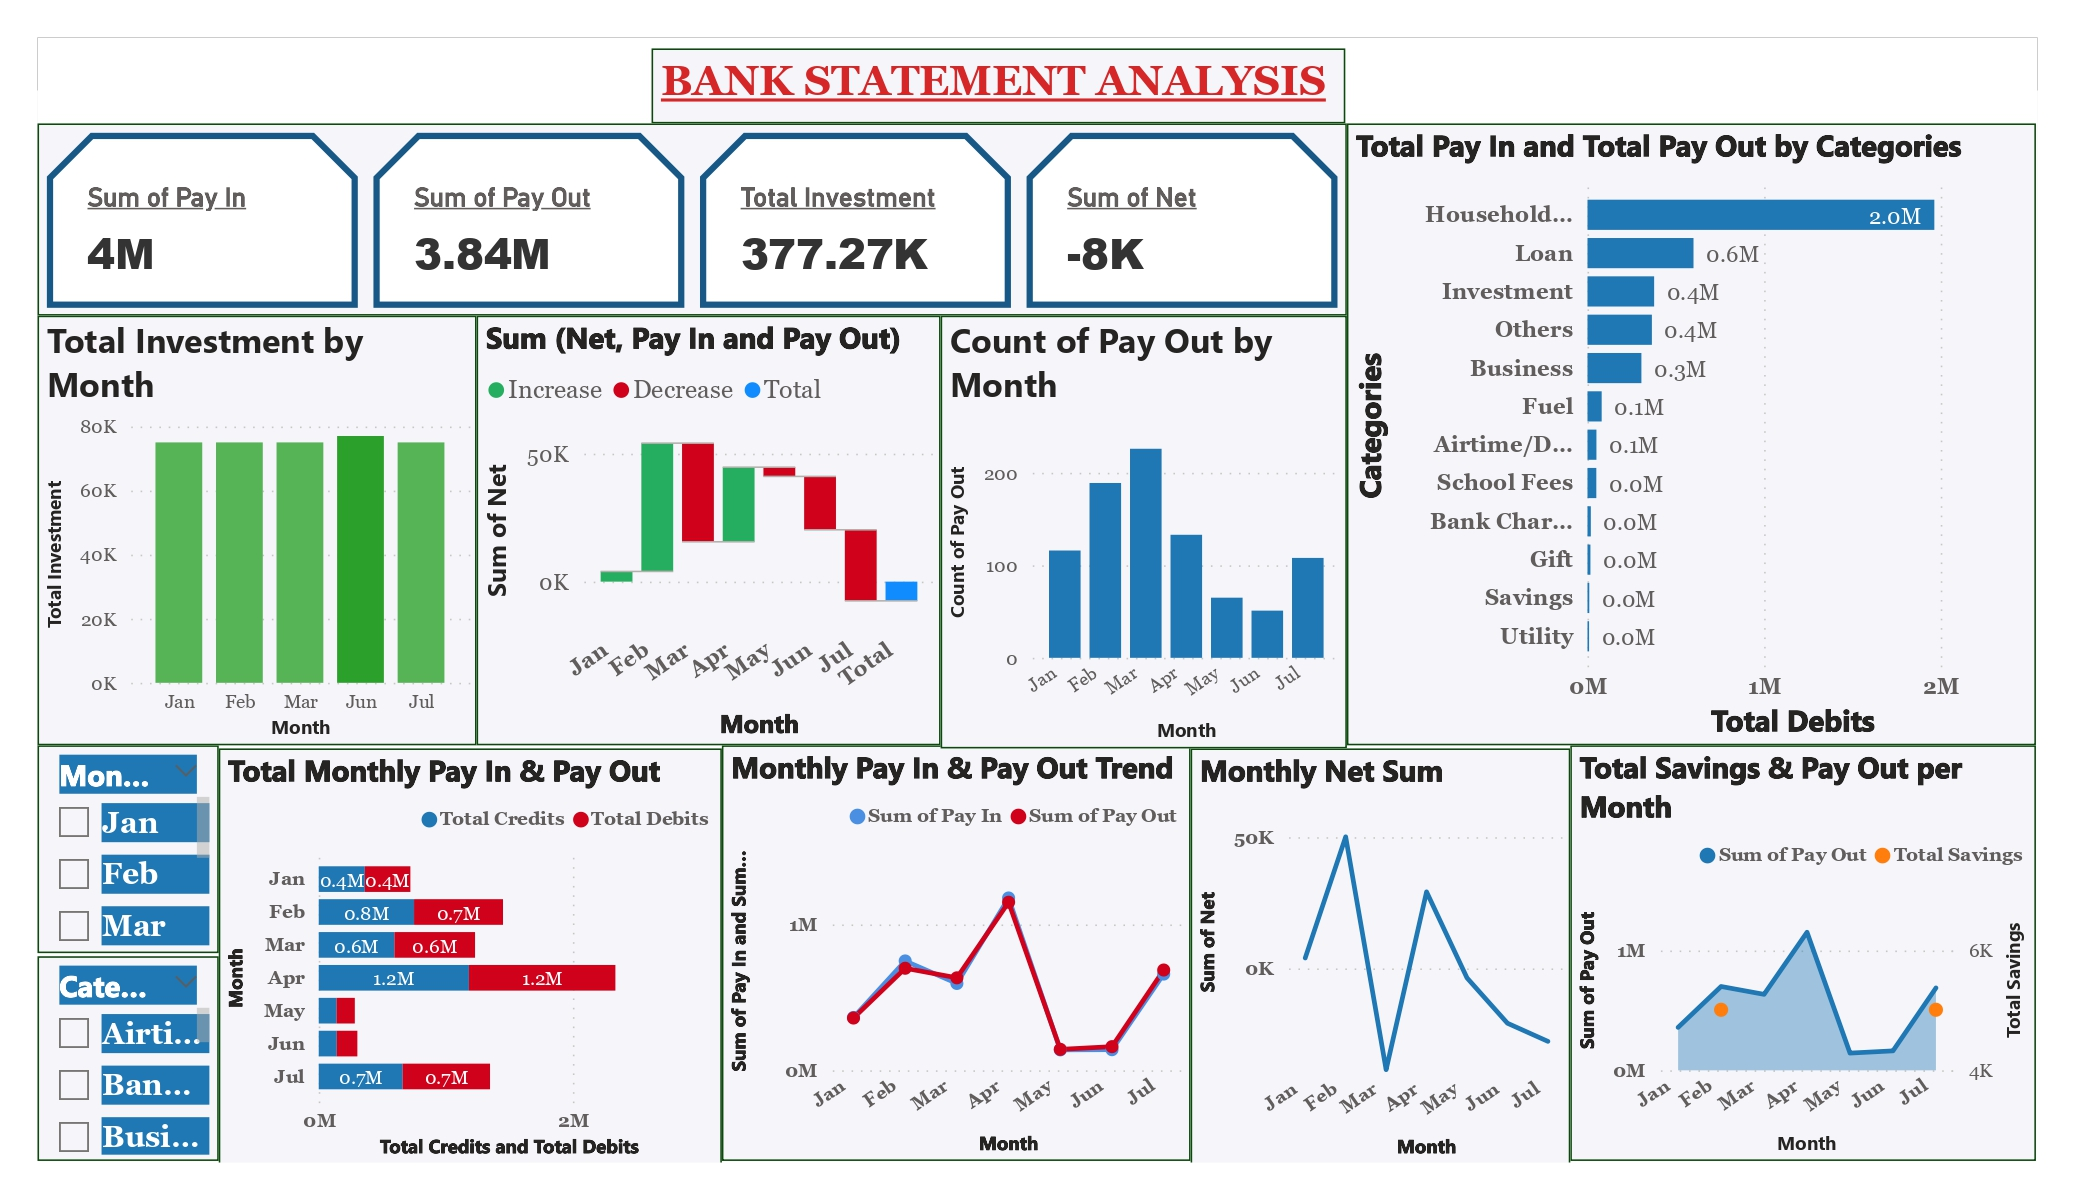

The page's visual inventory and layout, read from the dashboard file:
{"tool":"powerbi","page":{"name":"Page 1","canvas":[1280,720],"ordinal":0},"visuals":[{"type":"cardVisual","fields":{"Data":["Sum(Data.Pay In)","Sum(Data.Pay Out)","Data.Total Investment","Sum(Data.Net)"]},"box":[0,55.2,837.9,122.4],"z":1000},{"type":"lineChart","title":"Monthly Pay In & Pay Out Trend","fields":{"Category":["Data.Month"],"Y":["Sum(Data.Pay In)","Sum(Data.Pay Out)"]},"box":[437.9,453.4,300,265.5],"z":2000},{"type":"areaChart","title":"Total Savings & Pay Out per Month","fields":{"Category":["Data.Month"],"Y":["Sum(Data.Pay Out)"],"Y2":["Data.Total Savings"]},"box":[981,453.4,298.3,265.5],"z":3000},{"type":"waterfallChart","title":"Sum (Net, Pay In and Pay Out)","fields":{"Y":["Sum(Data.Net)"],"Category":["Data.Month"]},"box":[281,177.6,296.6,275.9],"z":4000},{"type":"barChart","title":"Total Monthly Pay In & Pay Out","fields":{"Category":["Data.Month"],"Y":["Data.Total Credits","Data.Total Debits"]},"box":[115.5,455.2,322.4,265.5],"z":5000},{"type":"clusteredBarChart","title":"Total Pay In and Total Pay Out by Categories","fields":{"Category":["Data.Categories"],"Y":["Data.Total Debits"]},"box":[837.9,55.2,441.4,398.3],"z":6000},{"type":"lineChart","title":"Monthly Net Sum","fields":{"Y":["Sum(Data.Net)"],"Category":["Data.Month"]},"box":[737.9,455.2,243.1,265.5],"z":7000},{"type":"textbox","box":[392.6,6.7,444.6,48.7],"z":8000},{"type":"slicer","fields":{"Values":["Data.Month"]},"box":[0,453.4,115.5,132.8],"z":9000},{"type":"columnChart","fields":{"Category":["Data.Month"],"Y":["CountNonNull(Data.Pay Out)"]},"box":[577.6,177.6,260.3,277.6],"z":10000},{"type":"slicer","fields":{"Values":["Data.Categories"]},"box":[0,587.9,115.5,131],"z":11000},{"type":"clusteredColumnChart","fields":{"Category":["Data.Month"],"Y":["Data.Total Investment"]},"box":[0,178,281,275],"z":11001}]}

Visuals, with their boxes in screenshot pixels (x1, y1, x2, y2):
cardVisual - Sum(Data.Pay In) x Sum(Data.Pay Out): {"x1": 38, "y1": 124, "x2": 1347, "y2": 315}
"Monthly Pay In & Pay Out Trend" lineChart: {"x1": 722, "y1": 746, "x2": 1190, "y2": 1161}
"Total Savings & Pay Out per Month" areaChart: {"x1": 1570, "y1": 746, "x2": 2036, "y2": 1161}
"Sum (Net, Pay In and Pay Out)" waterfallChart: {"x1": 477, "y1": 315, "x2": 940, "y2": 746}
"Total Monthly Pay In & Pay Out" barChart: {"x1": 218, "y1": 749, "x2": 722, "y2": 1162}
"Total Pay In and Total Pay Out by Categories" clusteredBarChart: {"x1": 1347, "y1": 124, "x2": 2036, "y2": 746}
"Monthly Net Sum" lineChart: {"x1": 1190, "y1": 749, "x2": 1570, "y2": 1162}
textbox: {"x1": 651, "y1": 48, "x2": 1346, "y2": 124}
slicer - Data.Month: {"x1": 38, "y1": 746, "x2": 218, "y2": 953}
columnChart - Data.Month x CountNonNull(Data.Pay Out): {"x1": 940, "y1": 315, "x2": 1347, "y2": 749}
slicer - Data.Categories: {"x1": 38, "y1": 956, "x2": 218, "y2": 1161}
clusteredColumnChart - Data.Month x Data.Total Investment: {"x1": 38, "y1": 316, "x2": 477, "y2": 745}
